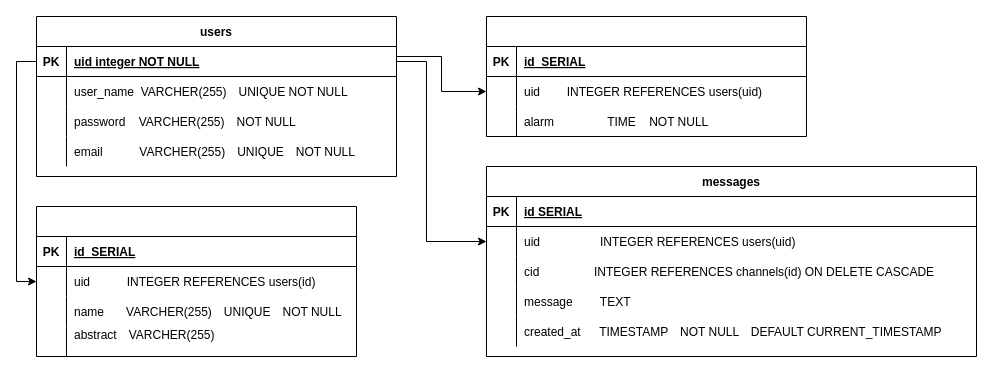
The diagram is 993 pixels wide and 373 high, and some of its shapes have lost their labels. Here are the shapes that lost their labels. From the top down, the box of each, then its label:
(486, 16, 806, 136): alarms
(36, 206, 356, 356): channels
